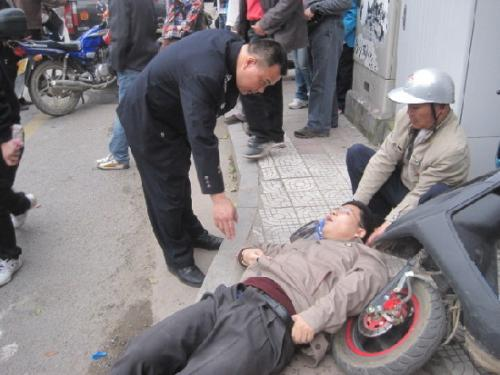10+: (1, 1, 498, 374)
down: (96, 197, 401, 375)
